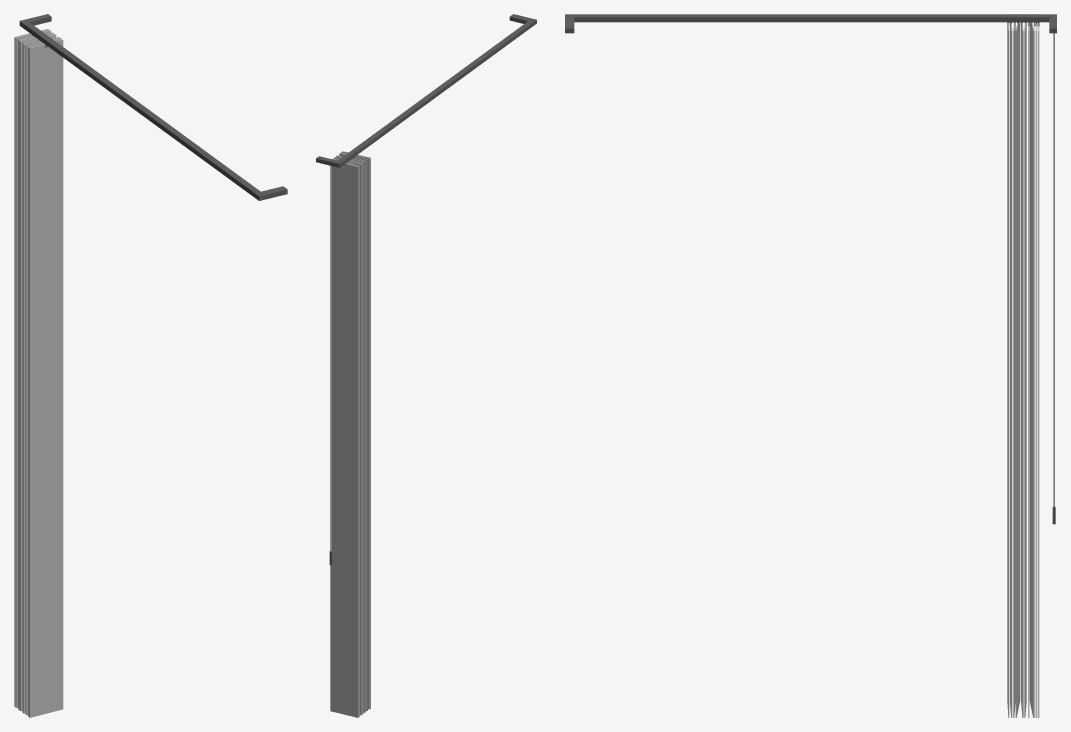
File: Curtain10.fbx
3 renders of one model, left to right at view 1: azimuth 30°, elevation 25°; view 2: azimuth 150°, elevation 25°; view 3: azimuth 270°, elevation 25°, orthographic. The views are drawn at different scales.
Visible parts, largest first — view 1: Curtain10; view 2: Curtain10; view 3: Curtain10.
Boxes of the visible parts, x1,y1,x2,y2 form: Curtain10: (14, 14, 287, 717); Curtain10: (316, 14, 536, 717); Curtain10: (565, 14, 1056, 717).
Size of the model in its own units: 0.1696 by 1.66 by 2.58.
